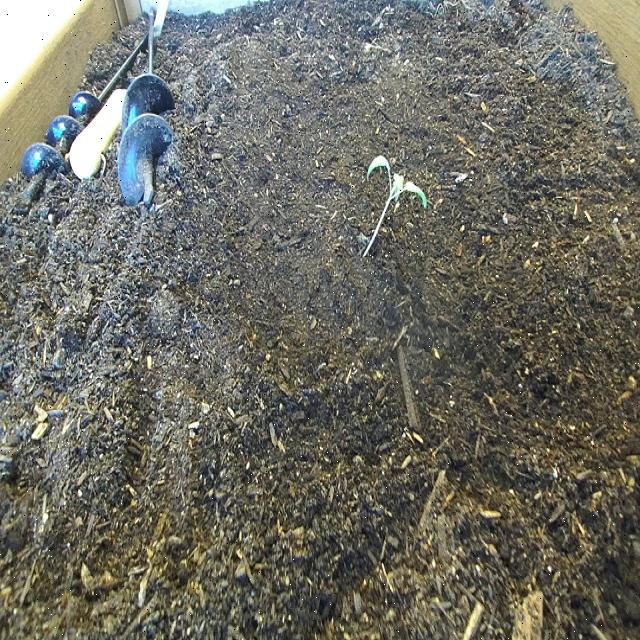Healthy: (356, 138, 431, 273)
